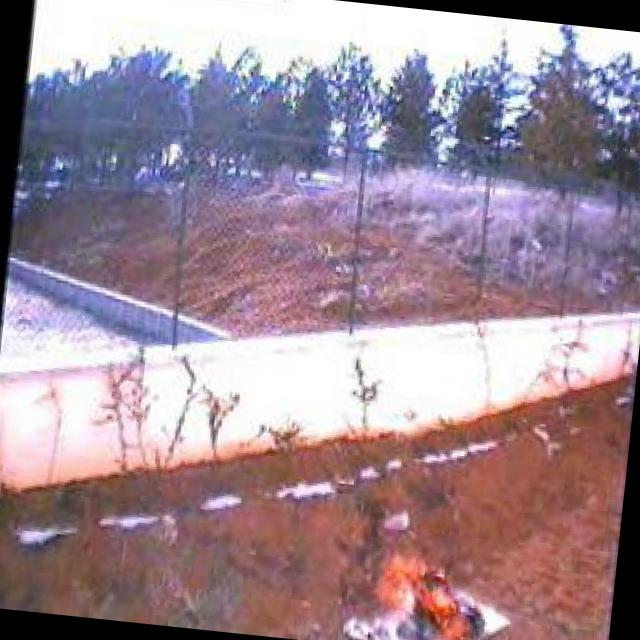Fire: (350, 545, 494, 640)
